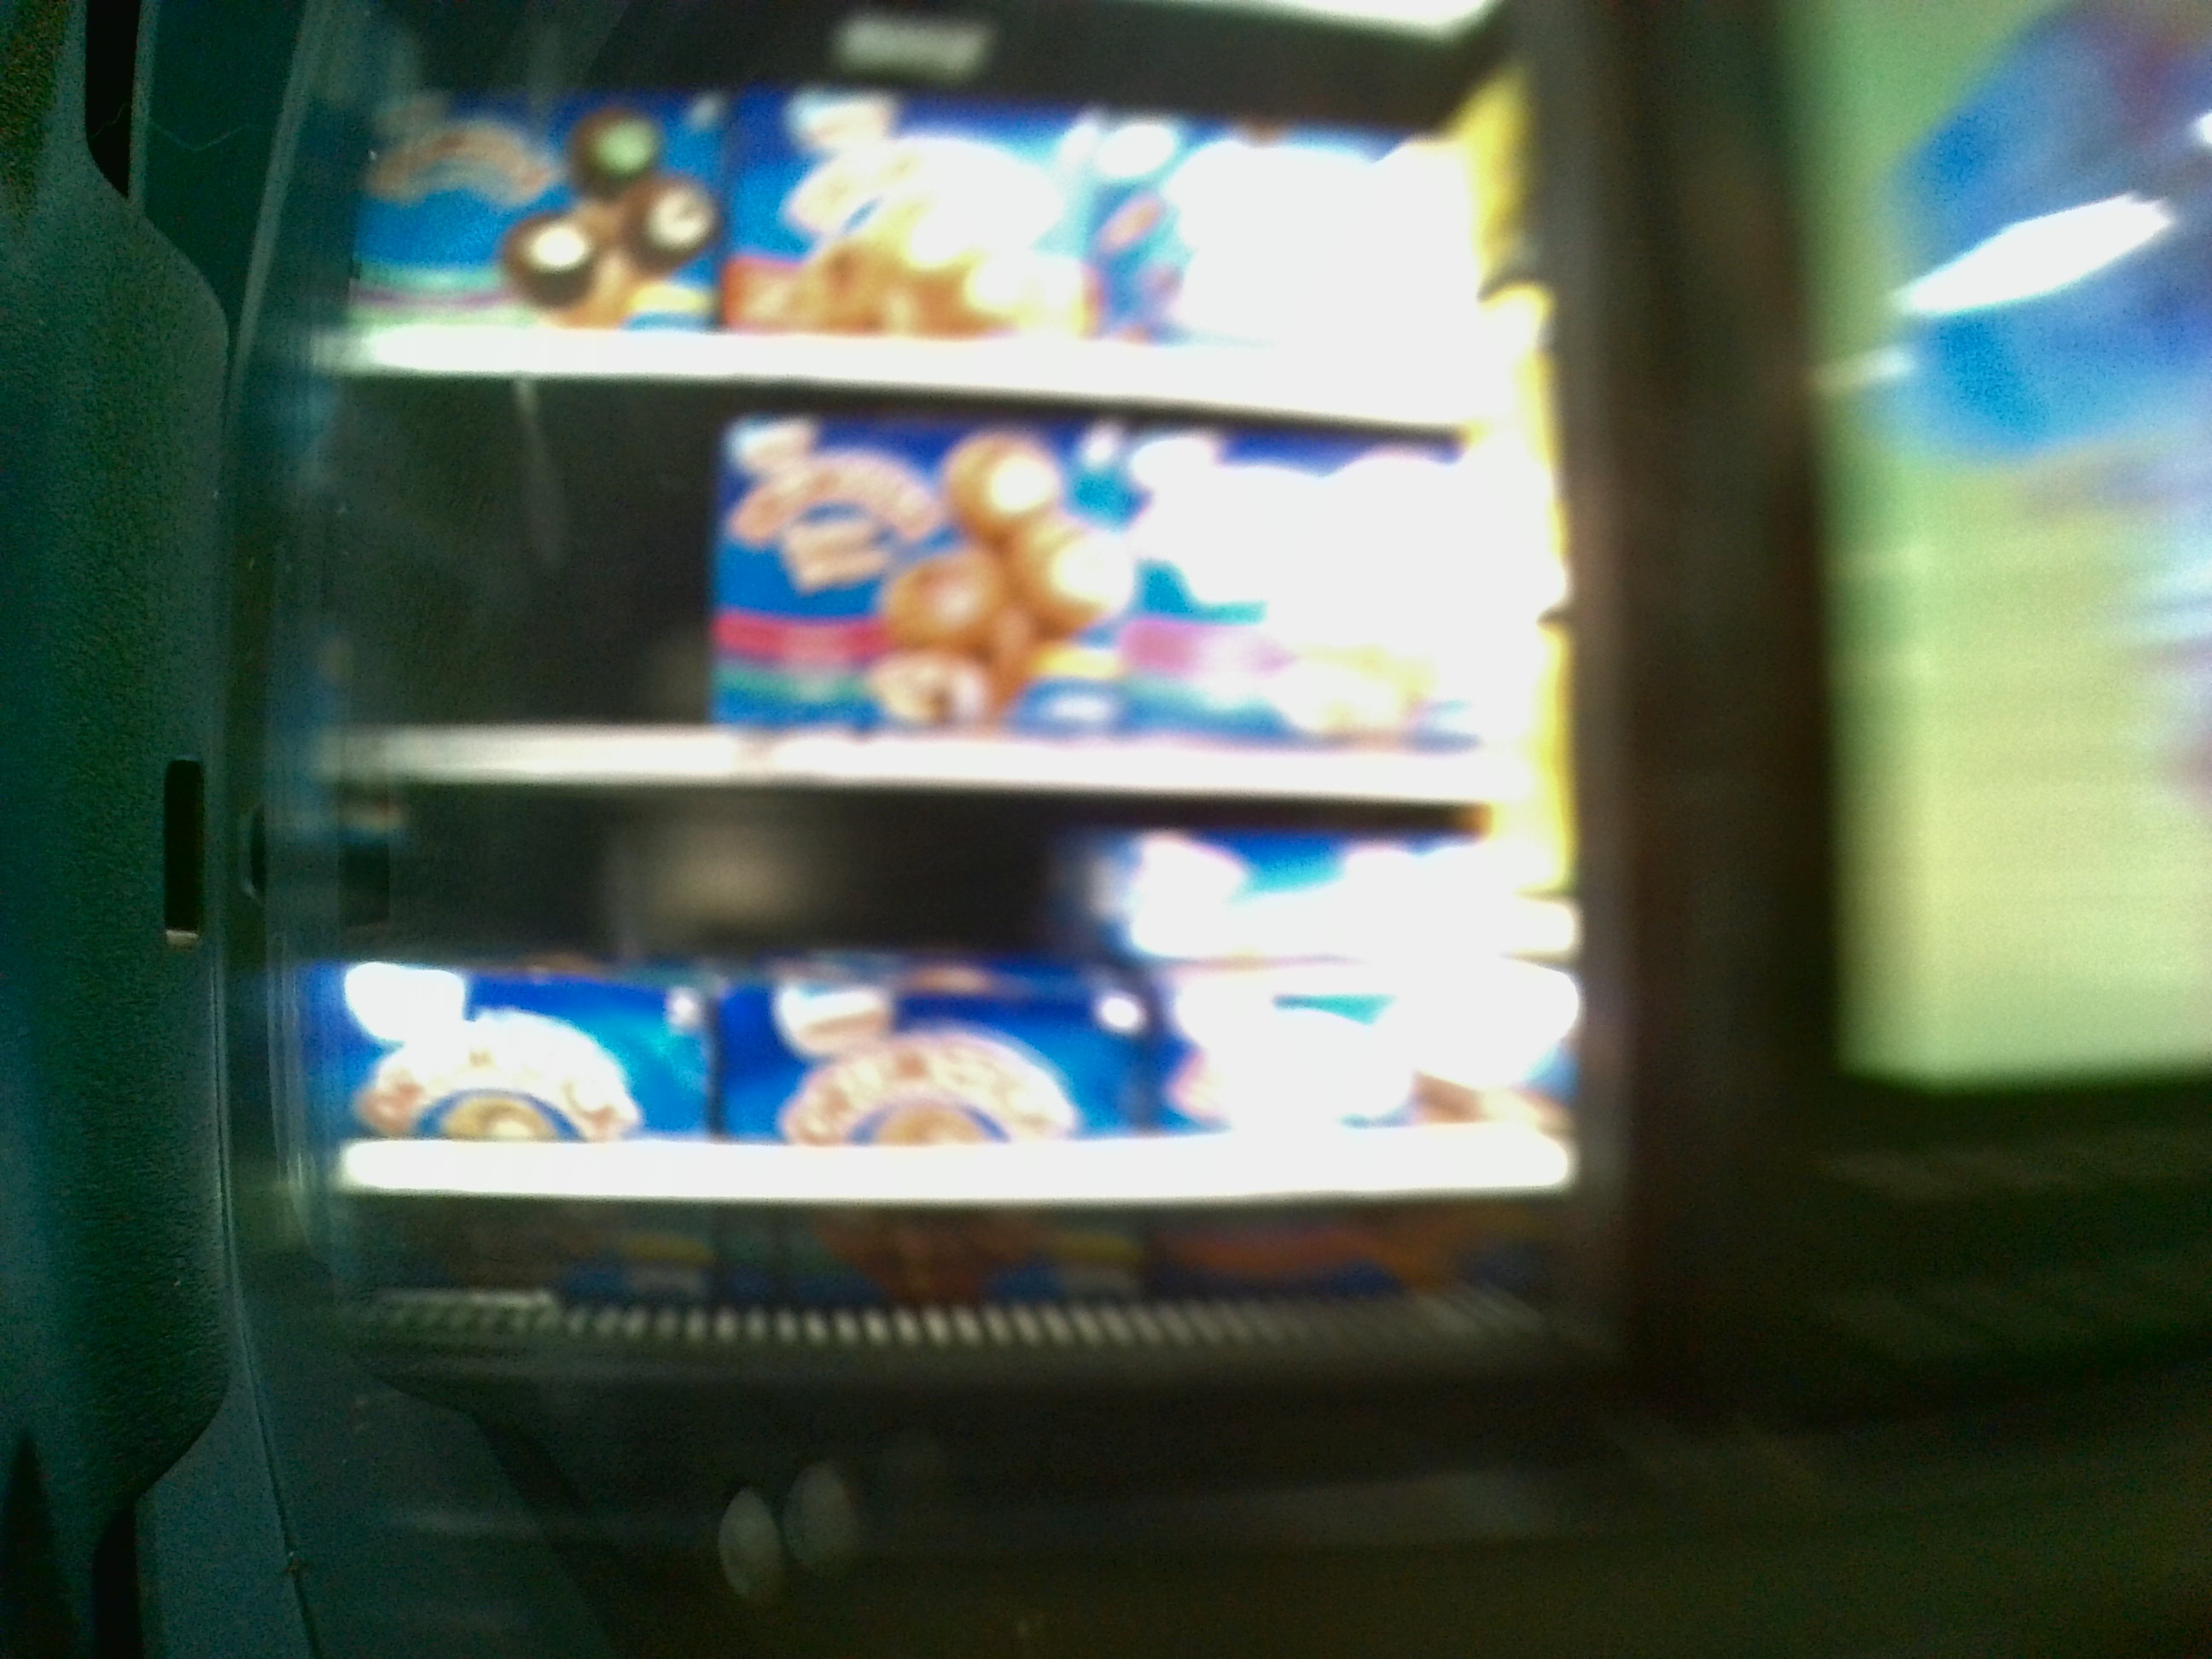shelf: (340, 789, 1564, 1317), (333, 394, 1557, 803)
